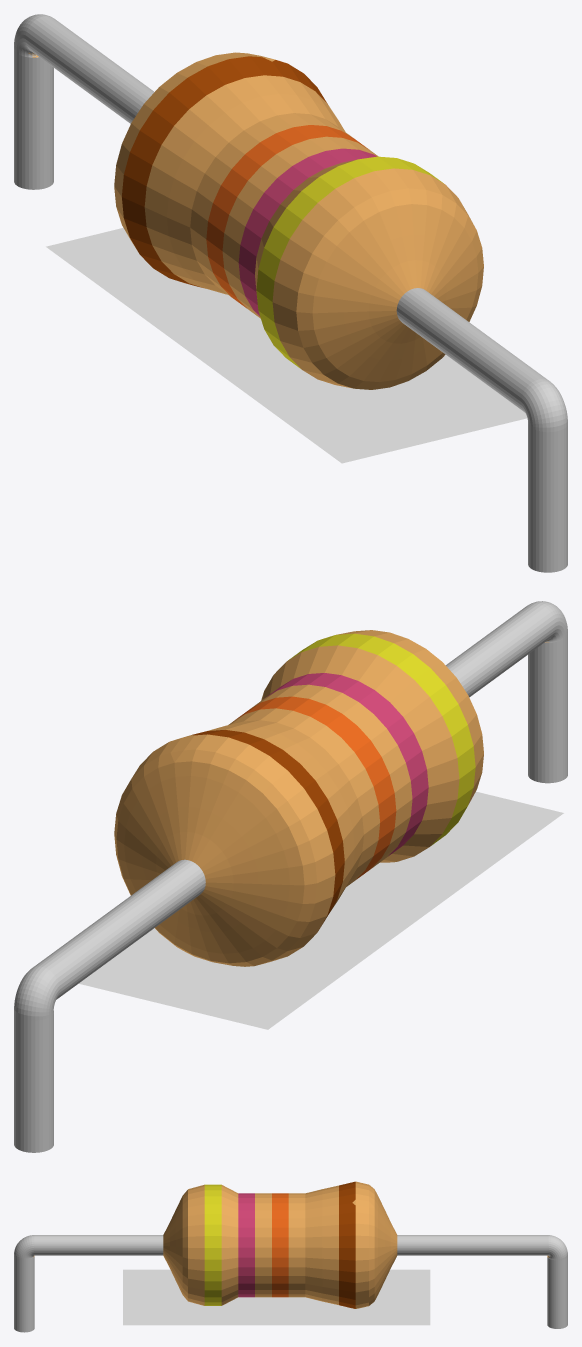
Rendered from R5_tan_4.gltf.
3 renders of one model, top to bottom at view 1: azimuth 30°, elevation 25°; view 2: azimuth 150°, elevation 25°; view 3: azimuth 270°, elevation 25°, orthographic. The views are drawn at different scales.
Parts seen in each view (by area): view 1: R5_tan_4, R5_tan_4_plane; view 2: R5_tan_4, R5_tan_4_plane; view 3: R5_tan_4, R5_tan_4_plane.
Part boxes in pixels (left/top/right/bottom): R5_tan_4: left=14, top=14, right=567, bottom=572; R5_tan_4_plane: left=46, top=227, right=527, bottom=463; R5_tan_4: left=14, top=601, right=567, bottom=1152; R5_tan_4_plane: left=79, top=791, right=563, bottom=1029; R5_tan_4: left=14, top=1181, right=567, bottom=1332; R5_tan_4_plane: left=123, top=1269, right=430, bottom=1325.
Bounding box in the file's own units: 0.0161 × 0.0189 × 0.0676.
